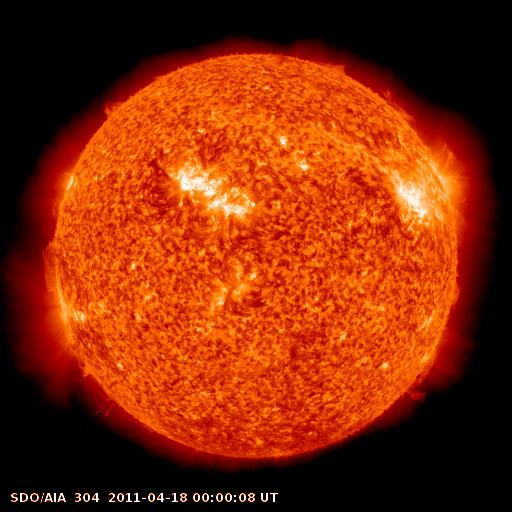prominence: (31, 235, 124, 424), (393, 340, 445, 408), (377, 82, 421, 132), (96, 89, 133, 124), (441, 275, 472, 309), (315, 52, 354, 78)
